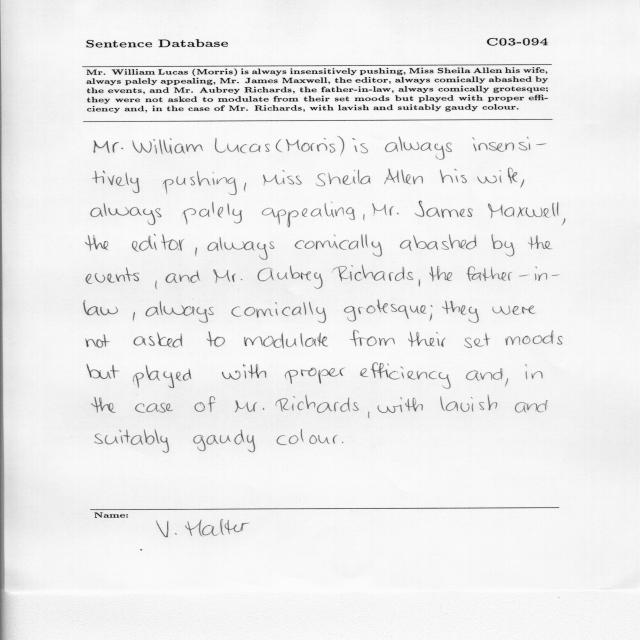word: (262, 202, 355, 228), (360, 363, 451, 389), (231, 301, 326, 323), (295, 234, 382, 257), (344, 300, 426, 322), (163, 171, 237, 195), (95, 430, 169, 453), (257, 265, 323, 289), (91, 203, 162, 225), (385, 137, 452, 160), (208, 237, 275, 260), (145, 301, 214, 323), (275, 395, 359, 413), (244, 332, 328, 349), (193, 430, 255, 453), (467, 267, 560, 282), (182, 202, 242, 225), (334, 265, 414, 282), (133, 365, 191, 388), (400, 234, 477, 251), (132, 138, 203, 154), (488, 202, 559, 218), (473, 137, 547, 152), (285, 367, 345, 384), (93, 171, 139, 193), (415, 201, 473, 218), (440, 395, 497, 412), (277, 429, 337, 445), (132, 234, 184, 252), (316, 170, 370, 187), (86, 267, 139, 284), (506, 331, 563, 346), (442, 301, 479, 323), (215, 138, 269, 153), (466, 368, 508, 387), (286, 138, 335, 153), (350, 330, 395, 346), (378, 397, 423, 413), (222, 364, 266, 380), (134, 333, 183, 347), (478, 168, 518, 184), (408, 331, 446, 347), (263, 170, 302, 185), (384, 169, 423, 184), (84, 300, 118, 316), (492, 235, 515, 257), (87, 364, 119, 379), (166, 270, 200, 283), (492, 305, 535, 315), (515, 400, 548, 413), (214, 269, 243, 283), (92, 397, 116, 413), (135, 403, 173, 413), (440, 169, 467, 183), (94, 141, 123, 154), (464, 334, 490, 348), (86, 235, 108, 251), (372, 203, 399, 216), (235, 401, 264, 413), (429, 266, 452, 281), (528, 236, 552, 250), (86, 334, 110, 348), (195, 396, 216, 412), (207, 331, 225, 347), (353, 138, 368, 153), (338, 137, 345, 155), (531, 371, 543, 379), (276, 139, 282, 152), (430, 305, 433, 321), (521, 180, 525, 188), (526, 364, 528, 380), (562, 218, 565, 225), (195, 247, 197, 256), (155, 280, 157, 289), (244, 183, 246, 191), (133, 312, 135, 320), (363, 214, 365, 220), (419, 279, 420, 287), (368, 412, 369, 418), (342, 442, 343, 443)
